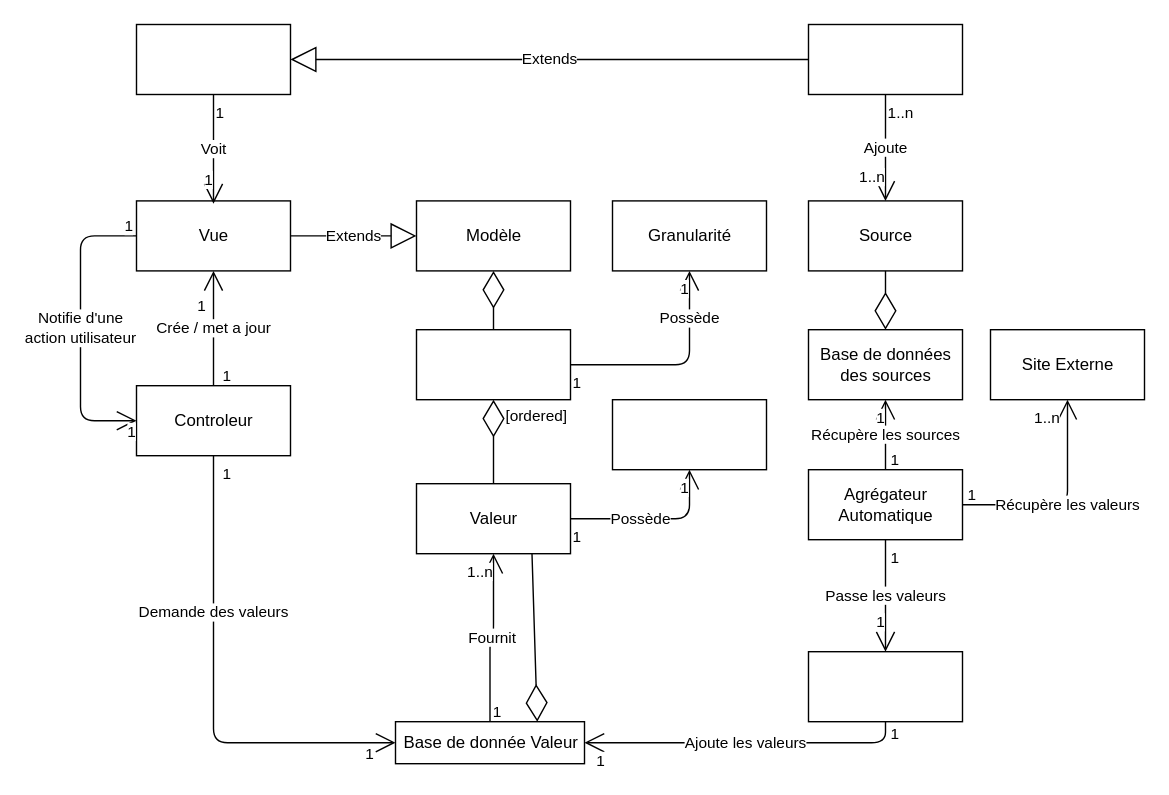
Some shapes in this 1169 by 795 pixel diagram are drawn without their labels. Here are the shapes that lost their labels. From the top down, the centre of each, then its label:
(x=212, y=58): Utilisateur
(x=884, y=58): Administrateur
(x=492, y=364): Graphe
(x=688, y=434): Date
(x=884, y=686): Parseur Convertisseur
